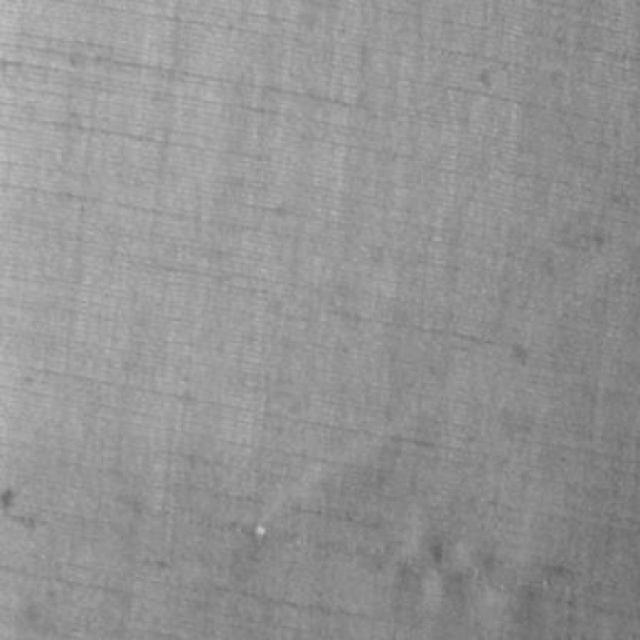other: (194, 461, 318, 595)
